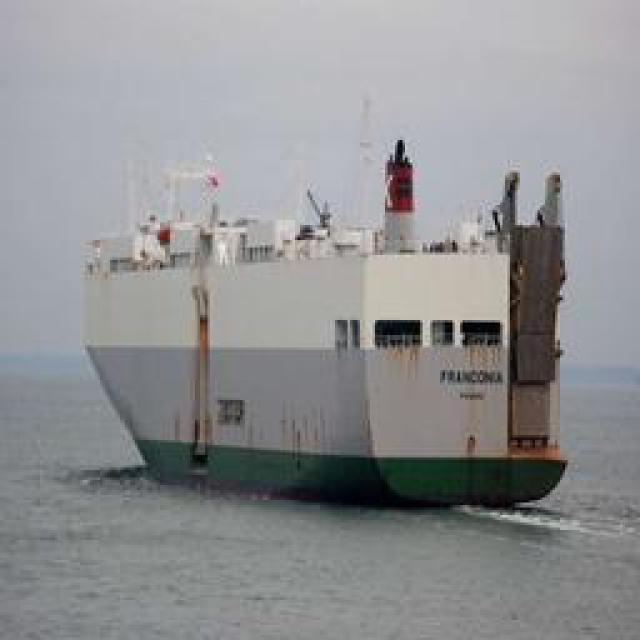Ship: (81, 175, 564, 508)
